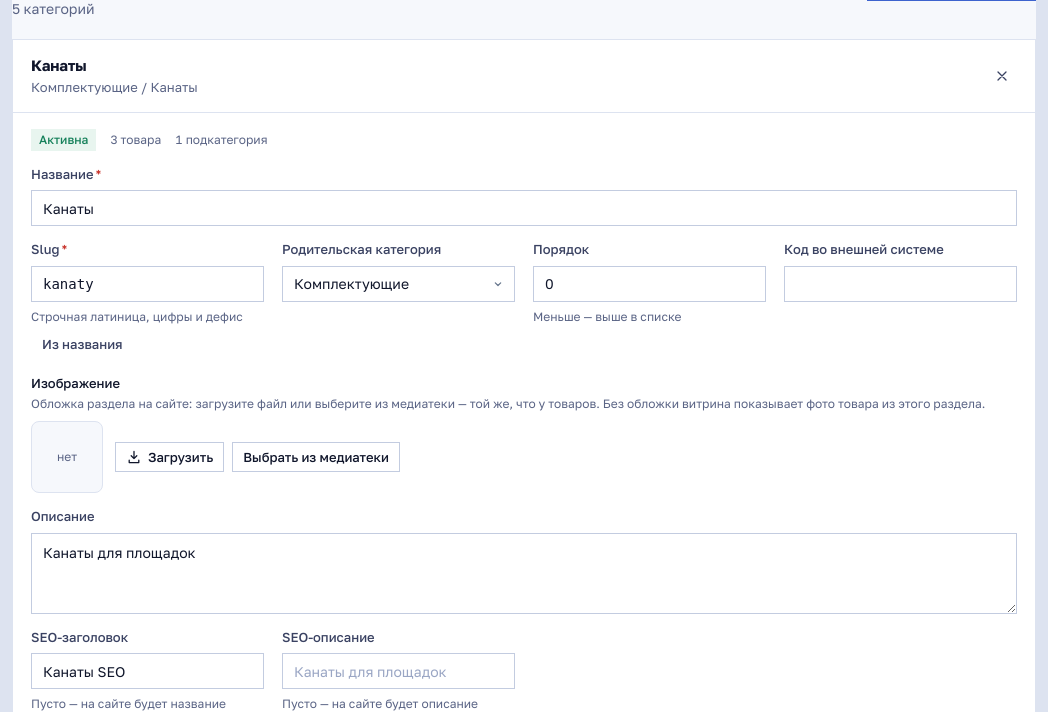
карточка категории › сохраняет изменённое название полным переводом
Step 1. Type " стальные" into the field labelled "Название*" → (524, 208), box x1=31 y1=190 x2=1017 y2=226
(page scrolled)
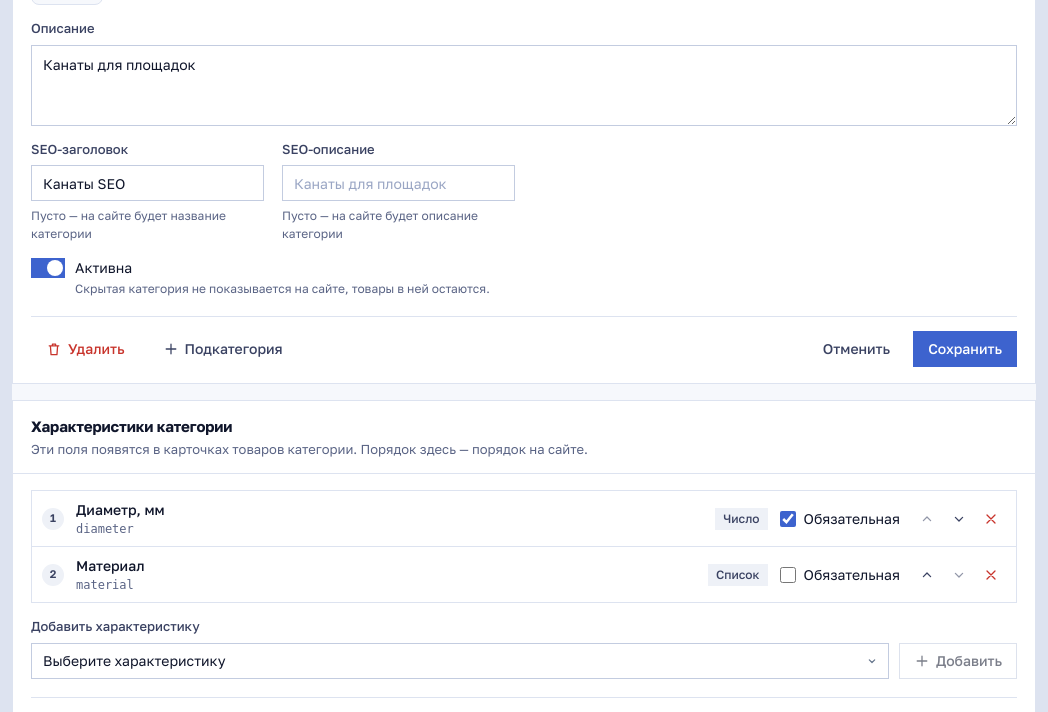
Step 2. Click the button "Сохранить" → (965, 349), box x1=913 y1=331 x2=1017 y2=367
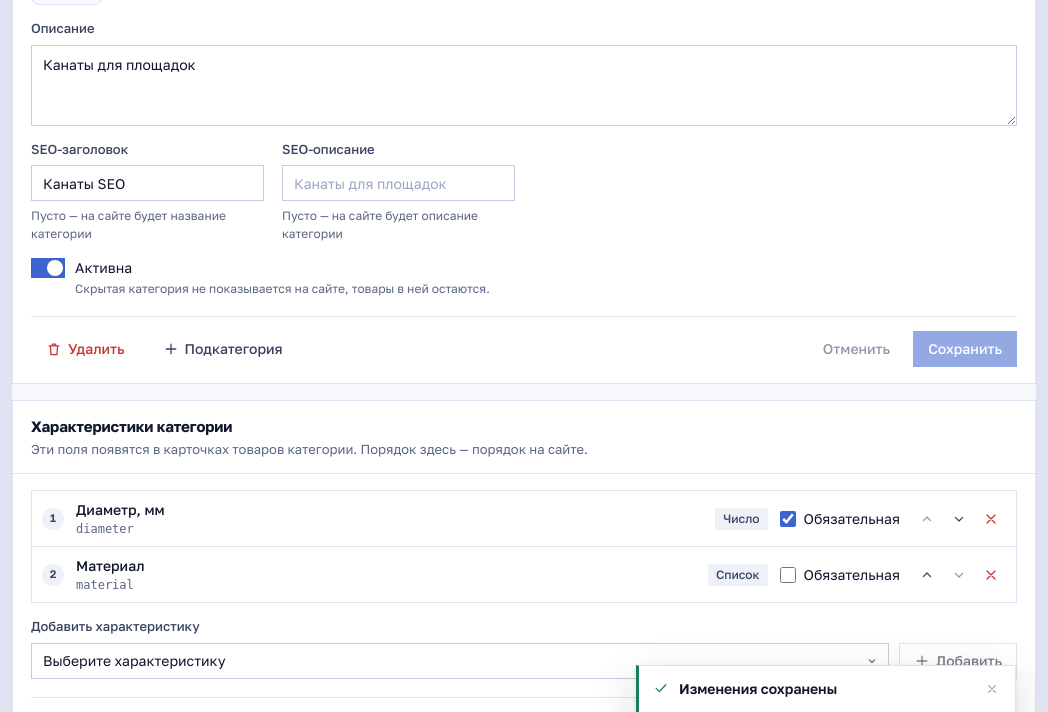
Result: the text "Изменения сохранены" is shown at x1=679 y1=680 x2=837 y2=697
